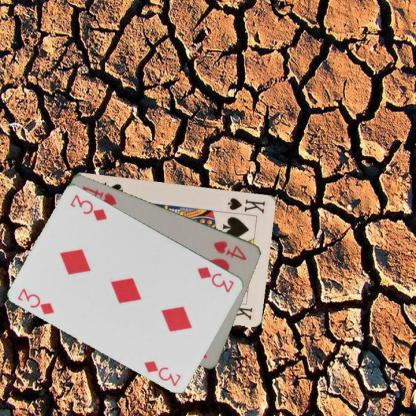3d: (15, 285, 56, 316), (195, 264, 236, 294)
4h: (211, 237, 248, 262)
Ks: (225, 195, 268, 215)
